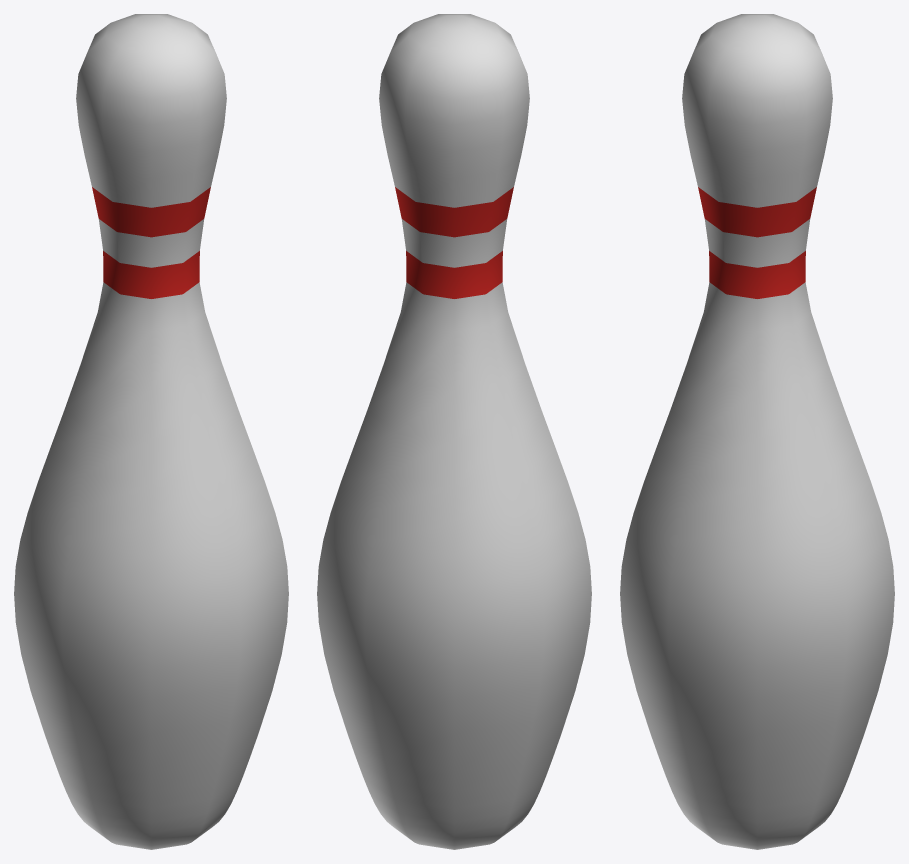
The model's file is Pin.fbx.
3 renders of one model, left to right at view 1: azimuth 30°, elevation 25°; view 2: azimuth 150°, elevation 25°; view 3: azimuth 270°, elevation 25°, orthographic.
Visible parts, largest first — view 1: Pin; view 2: Pin; view 3: Pin.
Part boxes in pixels (x1,y1,x2,y2): Pin: [14, 14, 288, 849]; Pin: [317, 14, 591, 849]; Pin: [620, 14, 894, 849].
Size of the model in its own units: 115 by 381 by 116.
